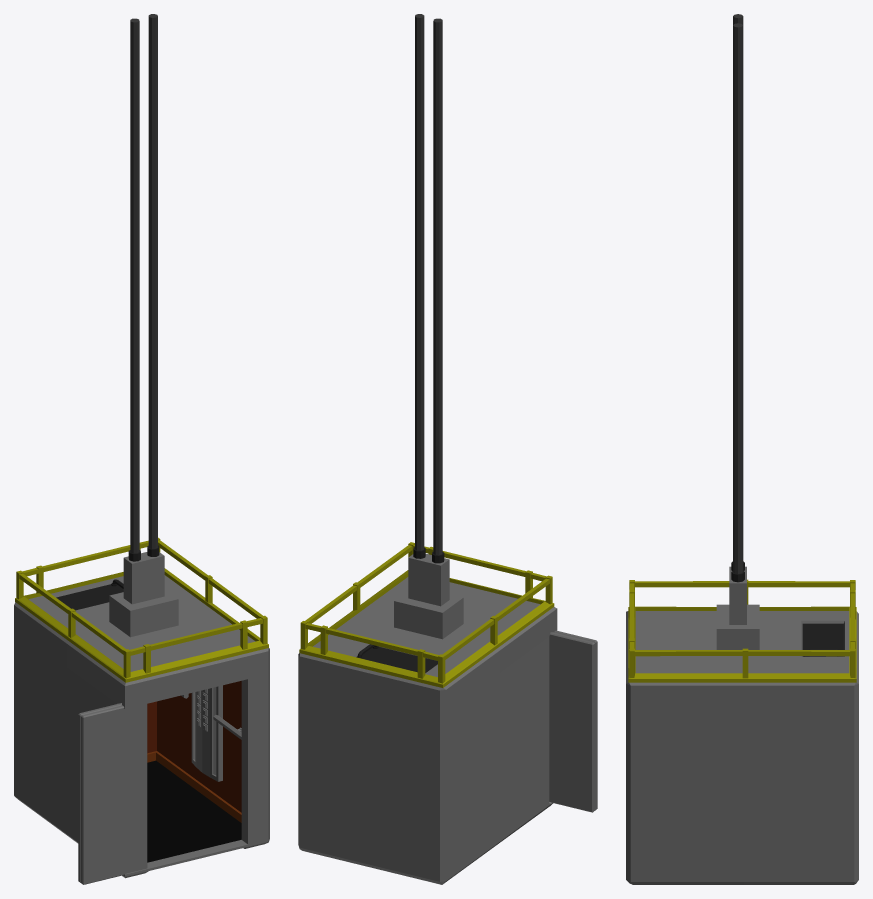
File: Elevator.obj
3 renders of one model, left to right at view 1: azimuth 30°, elevation 25°; view 2: azimuth 150°, elevation 25°; view 3: azimuth 270°, elevation 25°, orthographic. The views are drawn at different scales.
Parts seen in each view (by area): view 1: Cart_Elevator, Cube_Cube.011, Door_Cube, SafetyRamps_Cube.004, Console_Cube.006, Trap_Cube.012; view 2: Cart_Elevator, Cube_Cube.011, SafetyRamps_Cube.004, Door_Cube, Trap_Cube.012; view 3: Cart_Elevator, Cube_Cube.011, SafetyRamps_Cube.004, Trap_Cube.012.
Boxes of the visible parts, left/top/right/bottom form: Cart_Elevator: left=14, top=575, right=269, bottom=878; Cube_Cube.011: left=109, top=14, right=178, bottom=637; Door_Cube: left=78, top=703, right=147, bottom=884; SafetyRamps_Cube.004: left=15, top=537, right=268, bottom=682; Console_Cube.006: left=191, top=685, right=222, bottom=781; Trap_Cube.012: left=56, top=579, right=123, bottom=610; Cart_Elevator: left=298, top=577, right=557, bottom=884; Cube_Cube.011: left=394, top=14, right=463, bottom=639; SafetyRamps_Cube.004: left=299, top=542, right=554, bottom=687; Door_Cube: left=549, top=630, right=597, bottom=812; Trap_Cube.012: left=356, top=644, right=437, bottom=672; Cart_Elevator: left=626, top=611, right=858, bottom=884; Cube_Cube.011: left=716, top=14, right=759, bottom=649; SafetyRamps_Cube.004: left=628, top=579, right=856, bottom=682; Trap_Cube.012: left=802, top=623, right=843, bottom=656.
Size of the model in its own units: 2.97 by 12.14 by 3.09.
